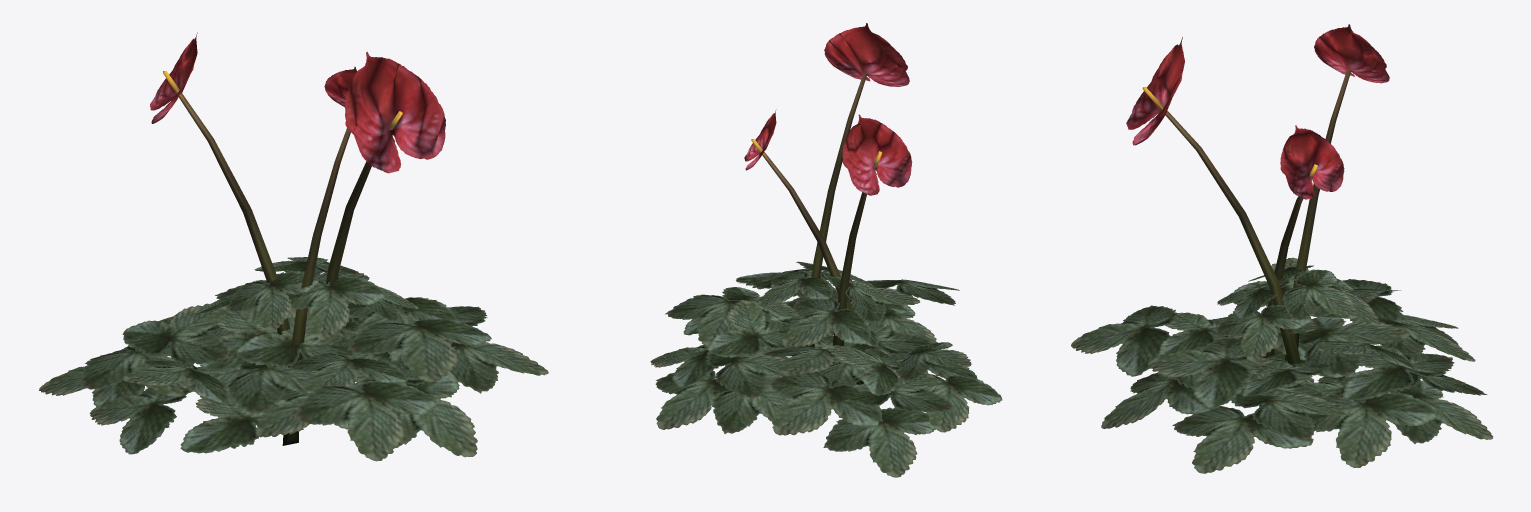
The model's file is Dream_Plant01.FBX.
3 renders of one model, left to right at view 1: azimuth 30°, elevation 25°; view 2: azimuth 150°, elevation 25°; view 3: azimuth 270°, elevation 25°, orthographic. The views are drawn at different scales.
Parts seen in each view (by area): view 1: Dream_Plant01; view 2: Dream_Plant01; view 3: Dream_Plant01.
Boxes of the visible parts, x1,y1,x2,y2 form: Dream_Plant01: (39, 32, 548, 461); Dream_Plant01: (650, 23, 1002, 477); Dream_Plant01: (1071, 24, 1493, 473).
Bounding box in the file's own units: 0.9879 × 0.821 × 0.8999.
